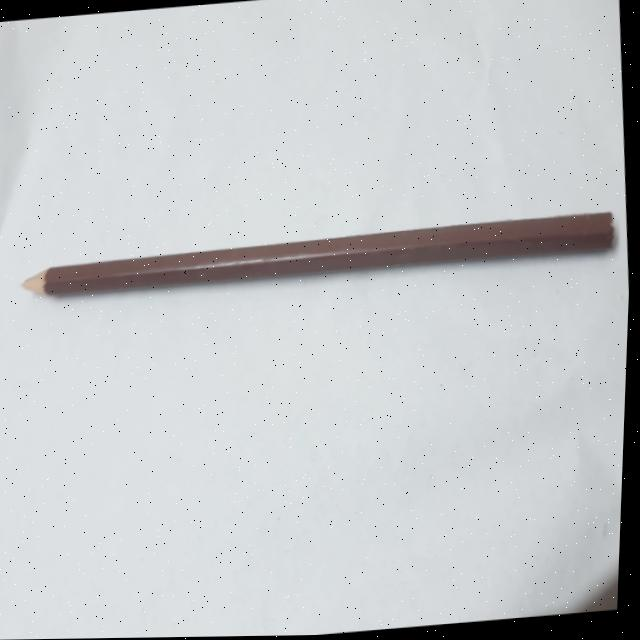pencil: (12, 194, 626, 316)
